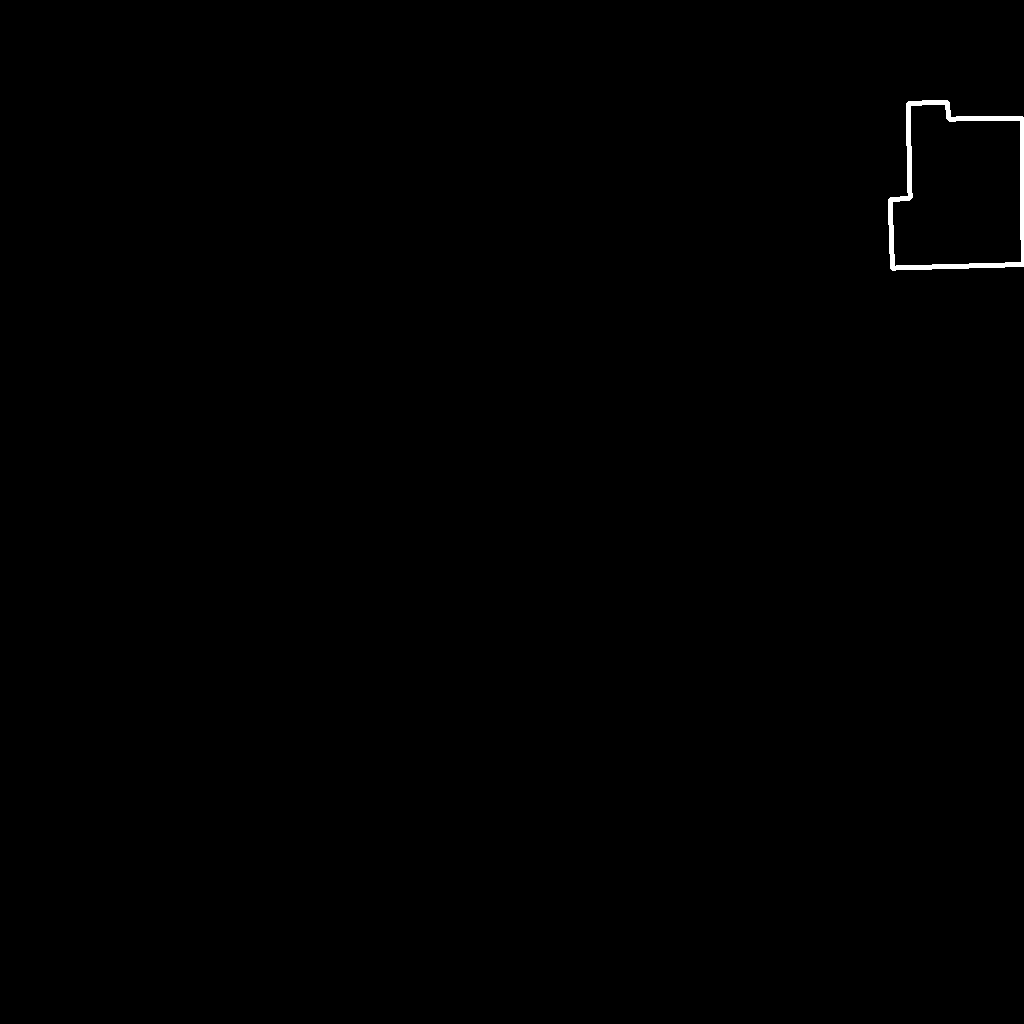building: (890, 102, 1024, 269)
